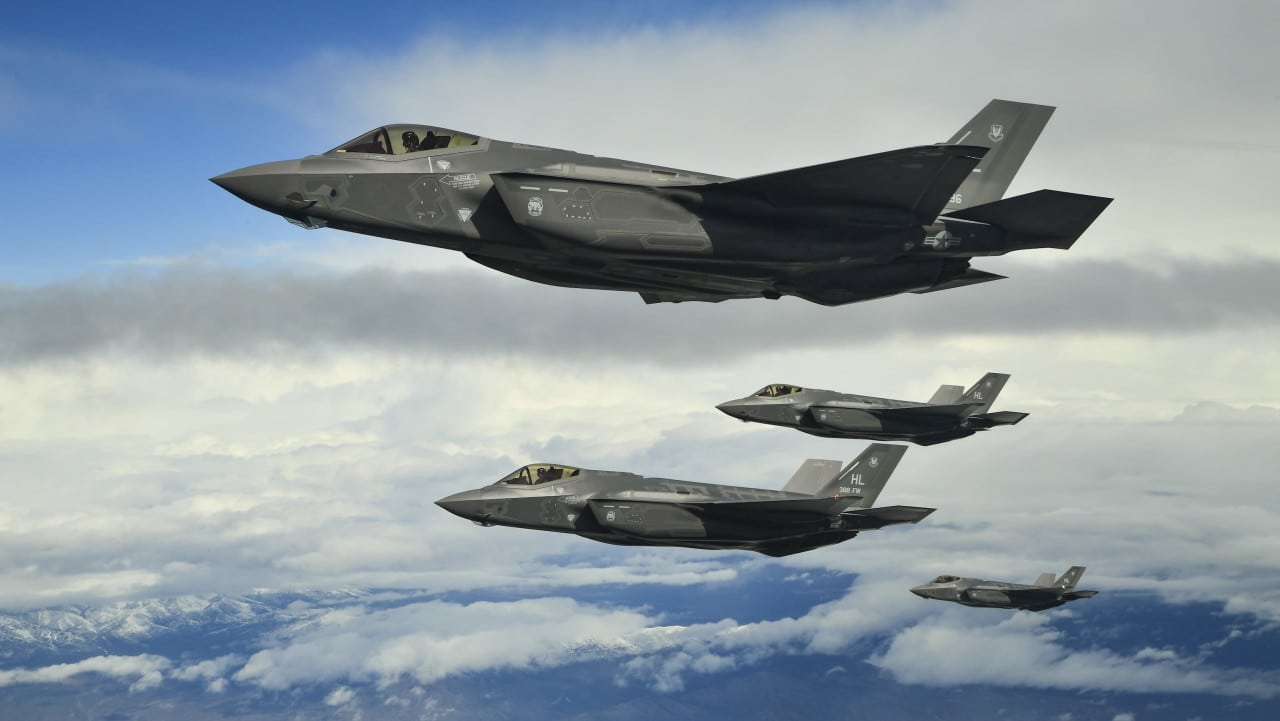F-35 Lightning: (153, 67, 1112, 315), (436, 417, 926, 587), (672, 354, 1057, 474), (902, 549, 1123, 639)
